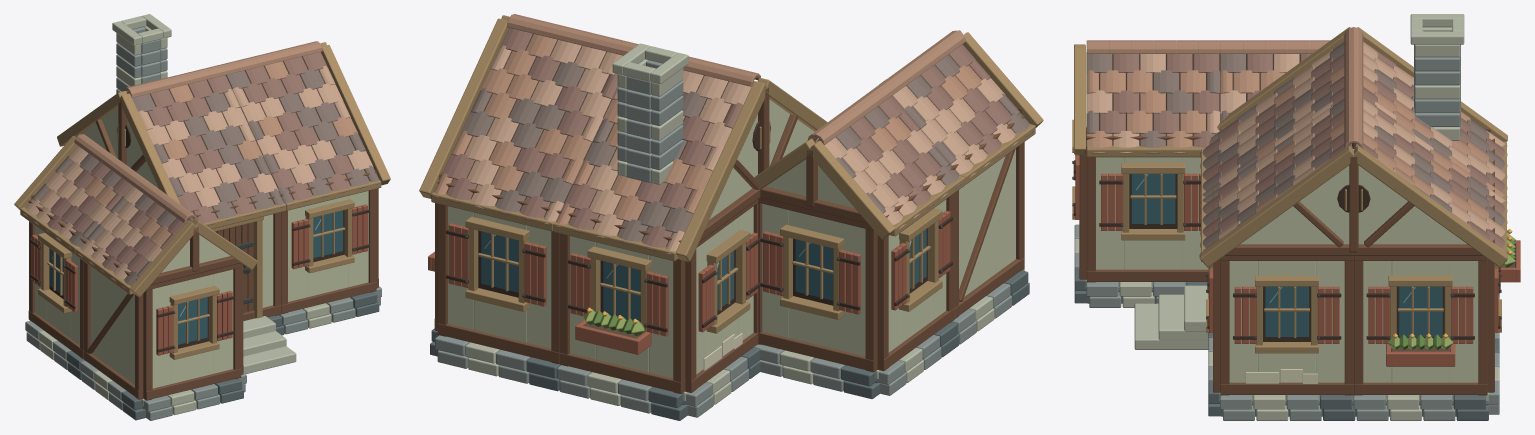
File: family_side_wing_composed.glb
3 renders of one model, left to right at view 1: azimuth 30°, elevation 25°; view 2: azimuth 150°, elevation 25°; view 3: azimuth 270°, elevation 25°, orthographic. The views are drawn at different scales.
Visible parts, largest first — view 1: roof_gable_4x2m__finish, roof_gable_4x2m__finish.001, roof_gable_2x2m__finish.001, roof_gable_2x2m__finish, wall_window_2m__finish, wall_window_2m__structure, wall_window_2m__finish.006, wall_window_2m__structure.006, wall_plain_2m__finish, attachment_chimney__attachments, gable_end_4m__structure.001, wall_window_2m__structure.003 (+18 smaller); view 2: roof_gable_4x2m__finish, roof_gable_4x2m__finish.001, roof_gable_2x2m__finish, roof_gable_2x2m__finish.001, wall_window_2m__finish.002, wall_window_2m__finish.009, attachment_chimney__attachments, wall_window_2m__structure.002, wall_window_2m__structure.009, wall_window_2m__finish.004, wall_window_2m__structure.004, gable_end_4m__structure.001 (+22 smaller); view 3: roof_gable_4x2m__finish, roof_gable_4x2m__finish.001, roof_gable_2x2m__finish, gable_end_4m__structure, wall_window_2m__finish.007, wall_window_2m__finish.008, wall_window_2m__finish.001, wall_window_2m__structure.007, gable_end_4m__finish, wall_window_2m__structure.008, wall_window_2m__structure.001, attachment_chimney__attachments (+17 smaller).
Part boxes in pixels (x1=…): roof_gable_4x2m__finish: x1=222, y1=41, x2=379, y2=205; roof_gable_4x2m__finish.001: x1=124, y1=64, x2=284, y2=225; roof_gable_2x2m__finish.001: x1=22, y1=134, x2=138, y2=249; roof_gable_2x2m__finish: x1=77, y1=174, x2=197, y2=289; wall_window_2m__finish: x1=152, y1=269, x2=233, y2=388; wall_window_2m__structure: x1=143, y1=263, x2=241, y2=400; wall_window_2m__finish.006: x1=288, y1=191, x2=368, y2=301; wall_window_2m__structure.006: x1=281, y1=171, x2=376, y2=313; wall_plain_2m__finish: x1=90, y1=266, x2=134, y2=384; attachment_chimney__attachments: x1=112, y1=14, x2=171, y2=93; gable_end_4m__structure.001: x1=57, y1=91, x2=180, y2=204; wall_window_2m__structure.003: x1=28, y1=200, x2=85, y2=359; roof_gable_4x2m__finish: x1=434, y1=14, x2=636, y2=224; roof_gable_4x2m__finish.001: x1=556, y1=44, x2=760, y2=254; roof_gable_2x2m__finish: x1=883, y1=30, x2=1032, y2=177; roof_gable_2x2m__finish.001: x1=807, y1=82, x2=962, y2=229; wall_window_2m__finish.002: x1=762, y1=203, x2=865, y2=356; wall_window_2m__finish.009: x1=448, y1=206, x2=551, y2=348; attachment_chimney__attachments: x1=612, y1=43, x2=688, y2=184; wall_window_2m__structure.002: x1=758, y1=197, x2=877, y2=372; wall_window_2m__structure.009: x1=437, y1=181, x2=560, y2=364; wall_window_2m__finish.004: x1=570, y1=236, x2=673, y2=378; wall_window_2m__structure.004: x1=559, y1=211, x2=685, y2=393; gable_end_4m__structure.001: x1=675, y1=77, x2=827, y2=261; roof_gable_4x2m__finish: x1=1200, y1=83, x2=1507, y2=253; roof_gable_4x2m__finish.001: x1=1200, y1=27, x2=1507, y2=198; roof_gable_2x2m__finish: x1=1086, y1=40, x2=1220, y2=153; gable_end_4m__structure: x1=1199, y1=145, x2=1507, y2=267; wall_window_2m__finish.007: x1=1229, y1=261, x2=1344, y2=382; wall_window_2m__finish.008: x1=1363, y1=261, x2=1478, y2=382; wall_window_2m__finish.001: x1=1096, y1=157, x2=1208, y2=269; wall_window_2m__structure.007: x1=1220, y1=255, x2=1353, y2=395; gable_end_4m__finish: x1=1240, y1=149, x2=1466, y2=244; wall_window_2m__structure.008: x1=1354, y1=255, x2=1487, y2=395; wall_window_2m__structure.001: x1=1086, y1=134, x2=1211, y2=282; attachment_chimney__attachments: x1=1410, y1=14, x2=1464, y2=140.
Bounding box in the file's own units: 6.81 × 5.08 × 6.71.
